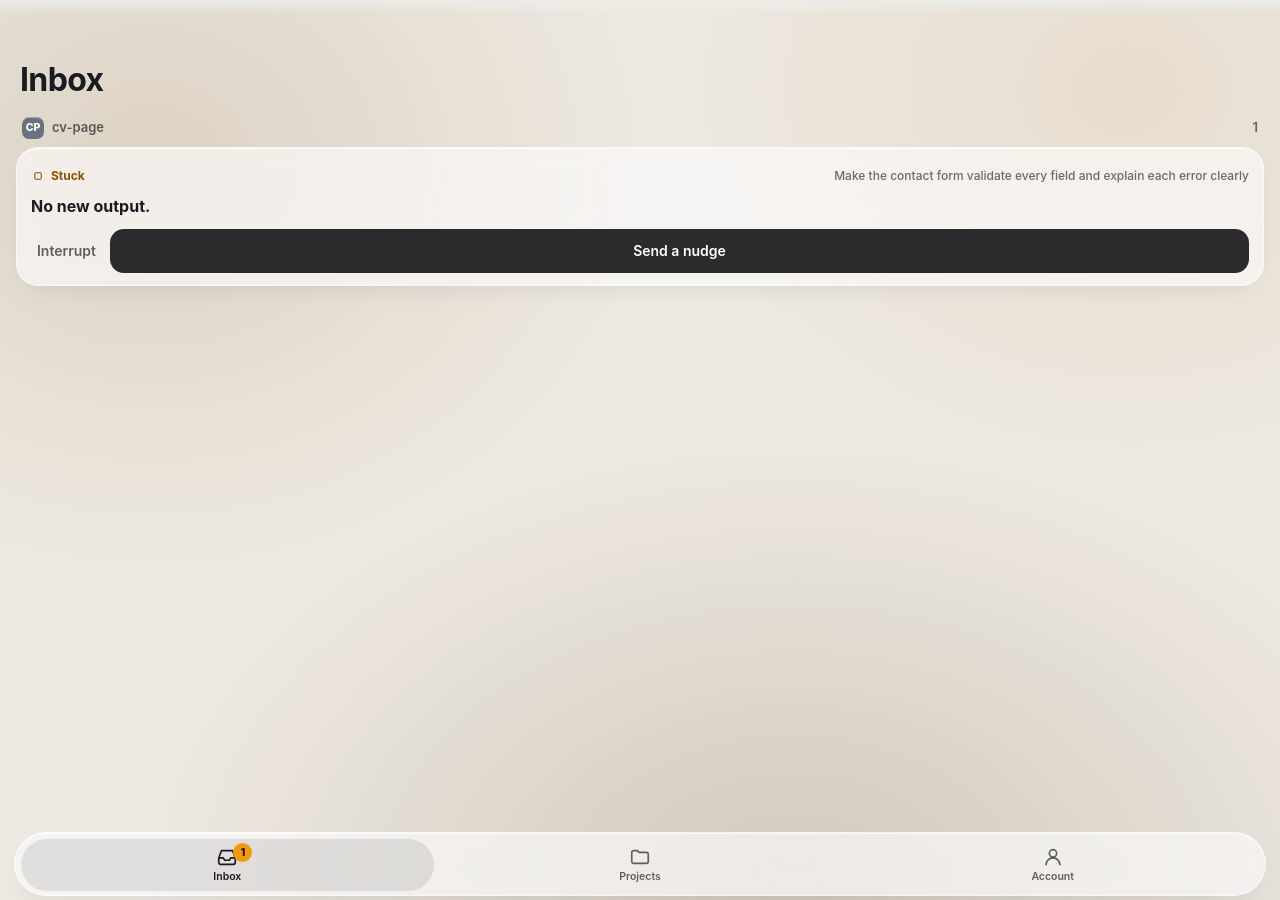
Scenario: where a chat works, in the list › puts the mark beneath the whole title, sharing its line with the time
Expected: the navigation bar named "Sections" is shown, [14, 832, 1266, 896]
Click the tab "Projects". click: (640, 865)
box: [434, 839, 846, 891]
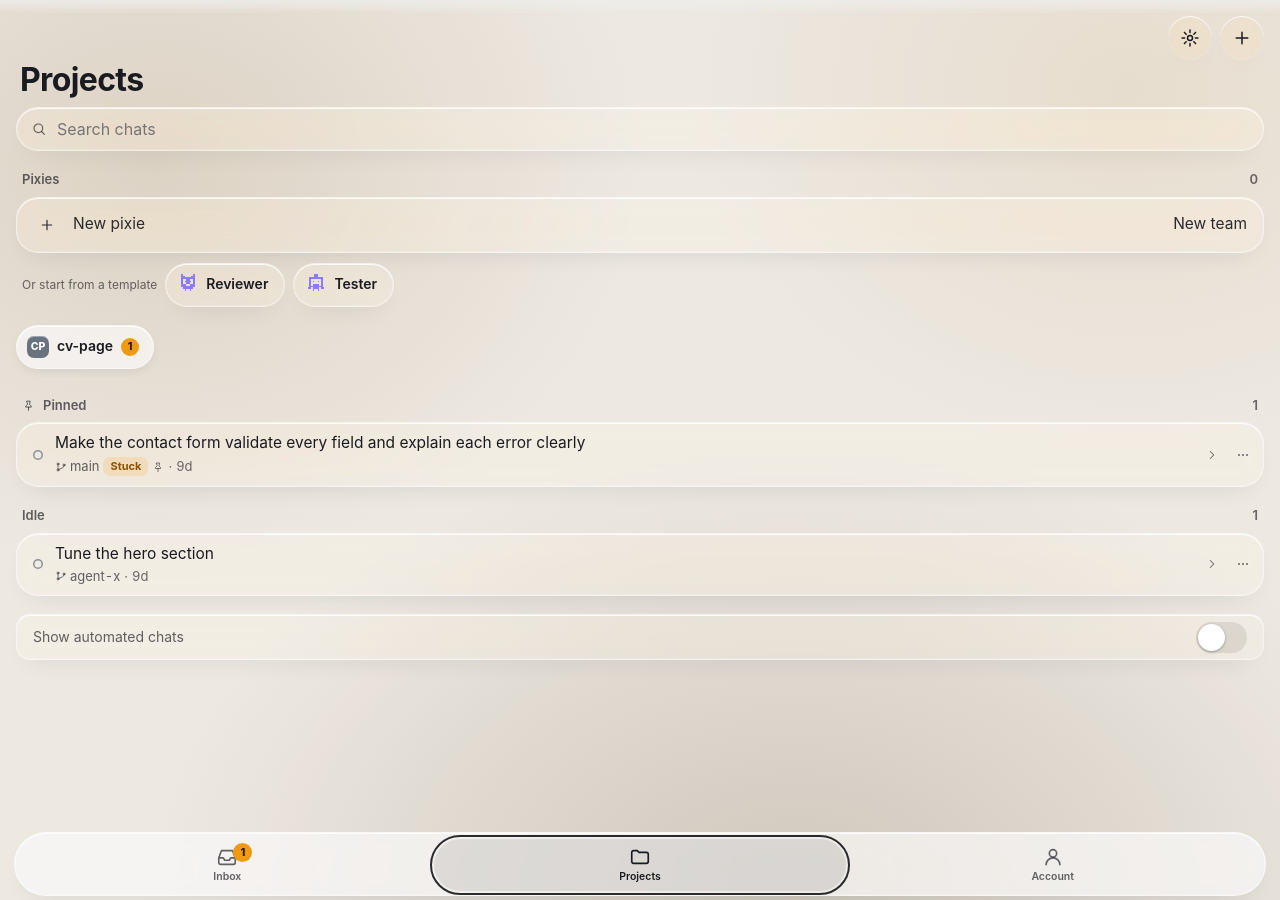
Expected: the text "Make the contact form validate every field and explain each error clearly" is shown, [55, 433, 585, 452]
Expected: the text "main" is shown, [55, 458, 100, 475]
Expected: the text "agent-x" is shown, [55, 568, 120, 585]
